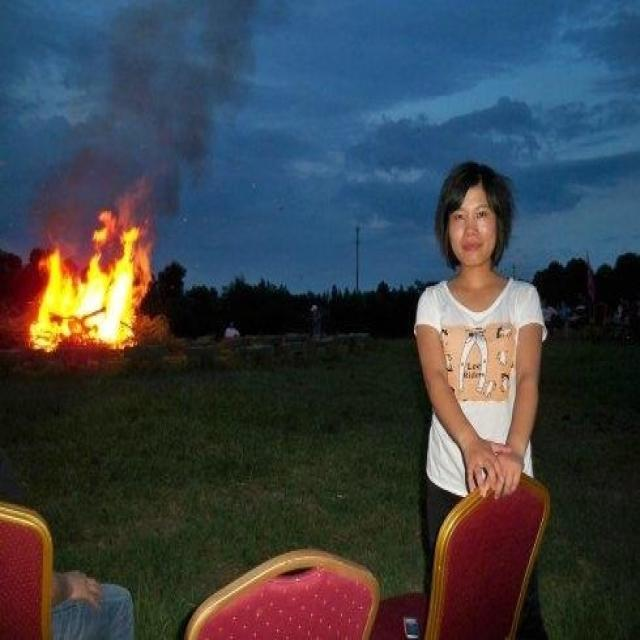Fire: (24, 192, 154, 352)
Smoke: (30, 2, 256, 240)
